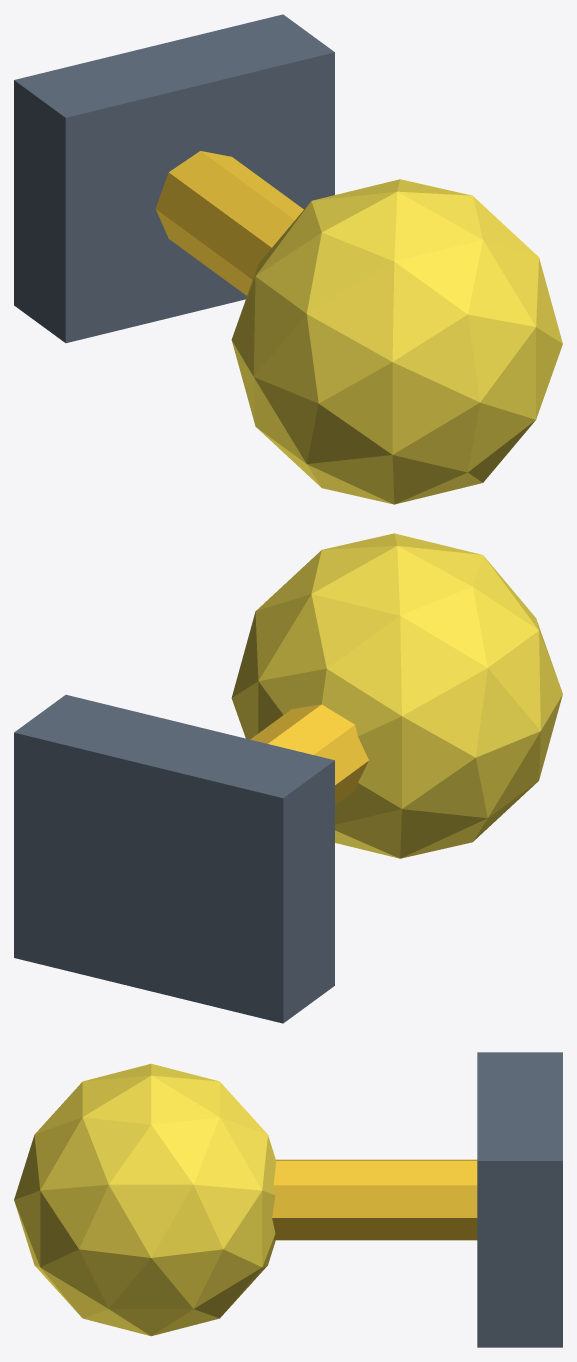
The model's file is trophy.glb.
3 views of the same model, one above another, from view 1: azimuth 30°, elevation 25°; view 2: azimuth 150°, elevation 25°; view 3: azimuth 270°, elevation 25° (orthographic). The views are drawn at different scales.
Visible parts, largest first — view 1: award_2, base_0, stem_1; view 2: base_0, award_2, stem_1; view 3: award_2, base_0, stem_1.
Boxes of the visible parts, x1,y1,x2,y2 form: award_2: [231, 179, 562, 504]; base_0: [14, 14, 334, 343]; stem_1: [155, 151, 303, 295]; base_0: [14, 694, 334, 1023]; award_2: [231, 533, 562, 858]; stem_1: [250, 704, 368, 805]; award_2: [14, 1063, 276, 1336]; base_0: [477, 1052, 562, 1347]; stem_1: [272, 1159, 477, 1240].
Bounding box in the file's own units: 0.32 × 0.32 × 0.64.
